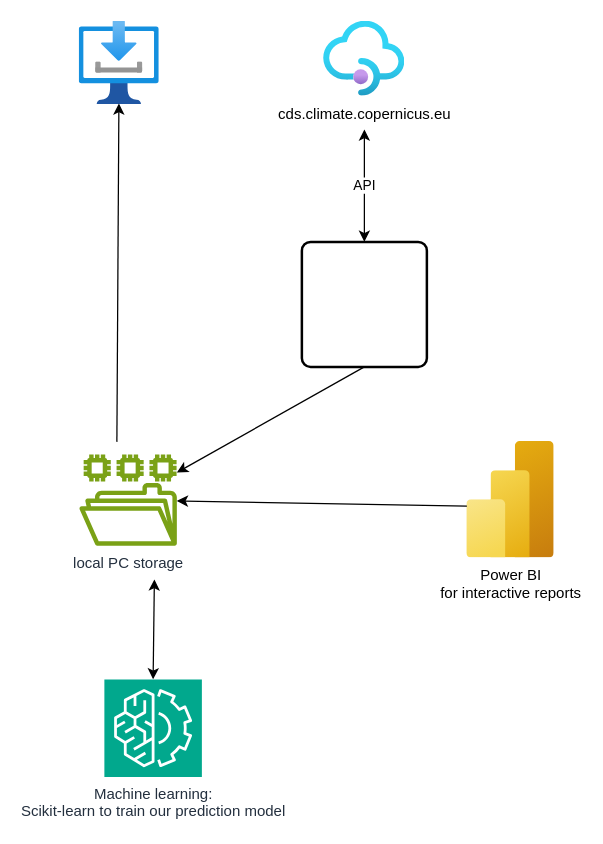
This 603x844 diagram has some shape labels left out. Here are the shapes that lost their labels. From the top down, the centre of each, then its label:
[119,62]: https://data.tours-metropole.fr
[364,304]: Python
